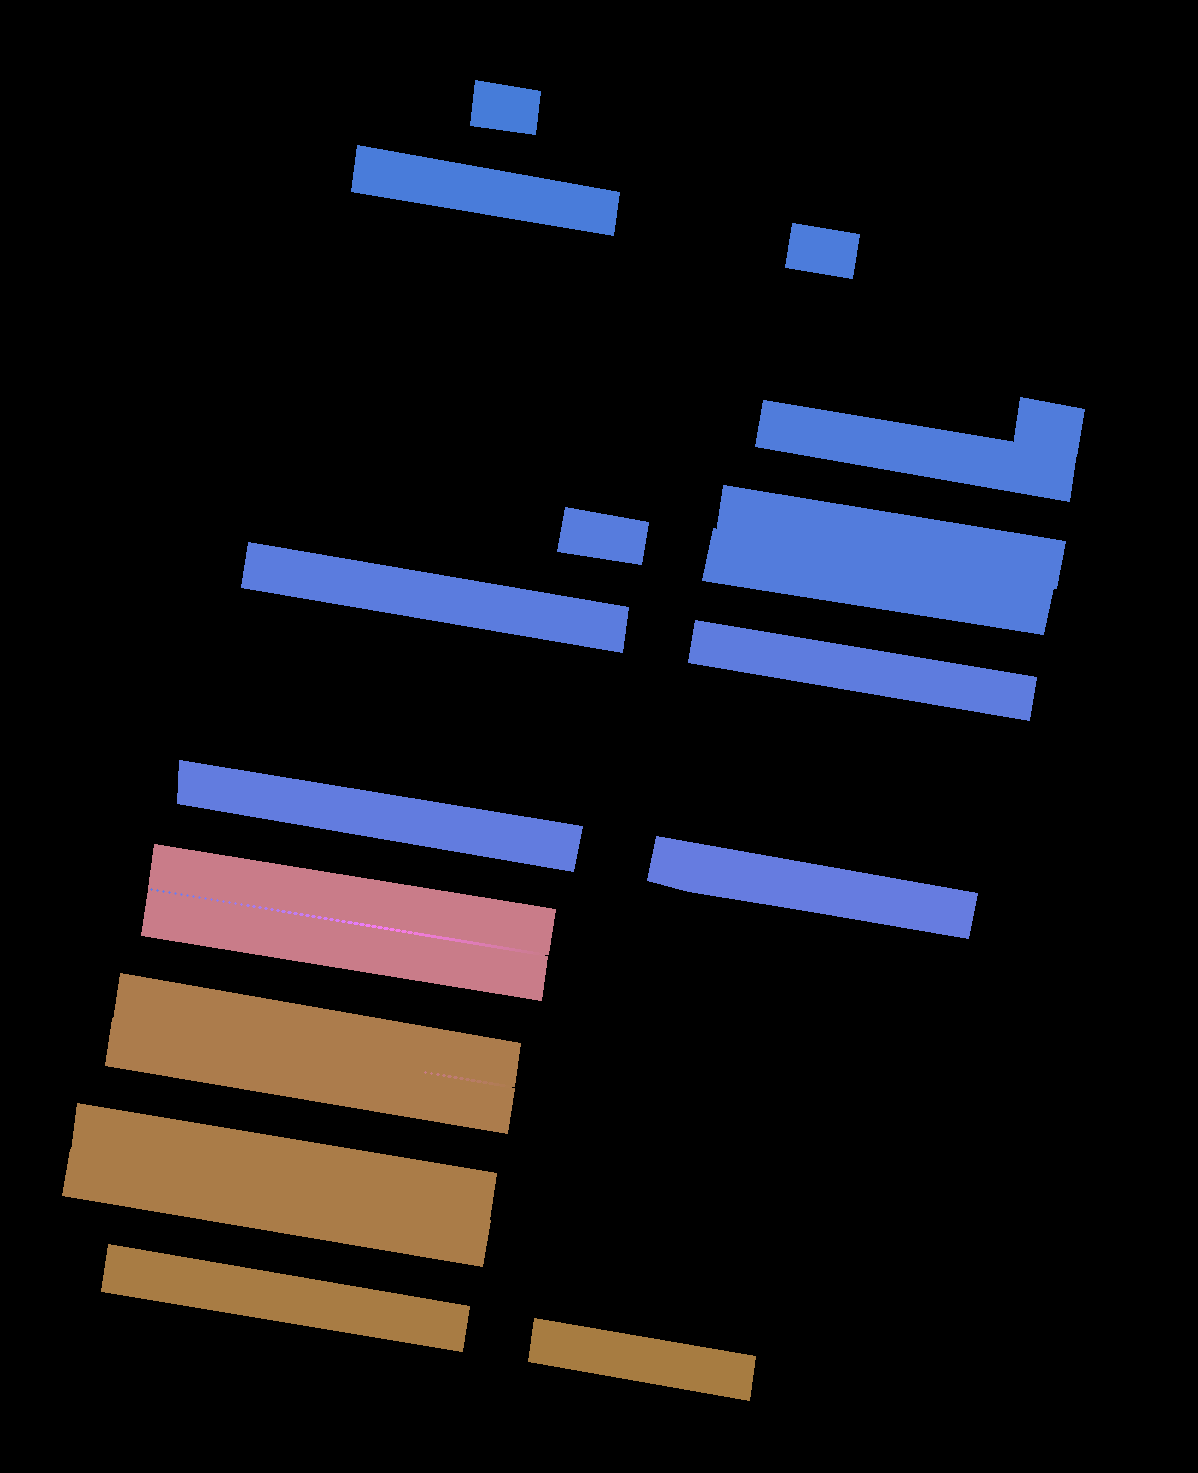parkingspot: (62, 1149, 490, 1266), (71, 1103, 496, 1220), (105, 1018, 513, 1133), (112, 973, 520, 1085), (141, 889, 546, 1000), (177, 760, 582, 872), (148, 843, 555, 953), (241, 542, 628, 652), (101, 1244, 469, 1351), (702, 528, 1053, 634), (716, 485, 1065, 588), (688, 620, 1035, 720), (647, 836, 977, 938), (755, 400, 1076, 501), (351, 145, 619, 235), (528, 1318, 755, 1400), (557, 507, 648, 564), (1013, 397, 1084, 456), (785, 222, 859, 277), (469, 79, 540, 134)
